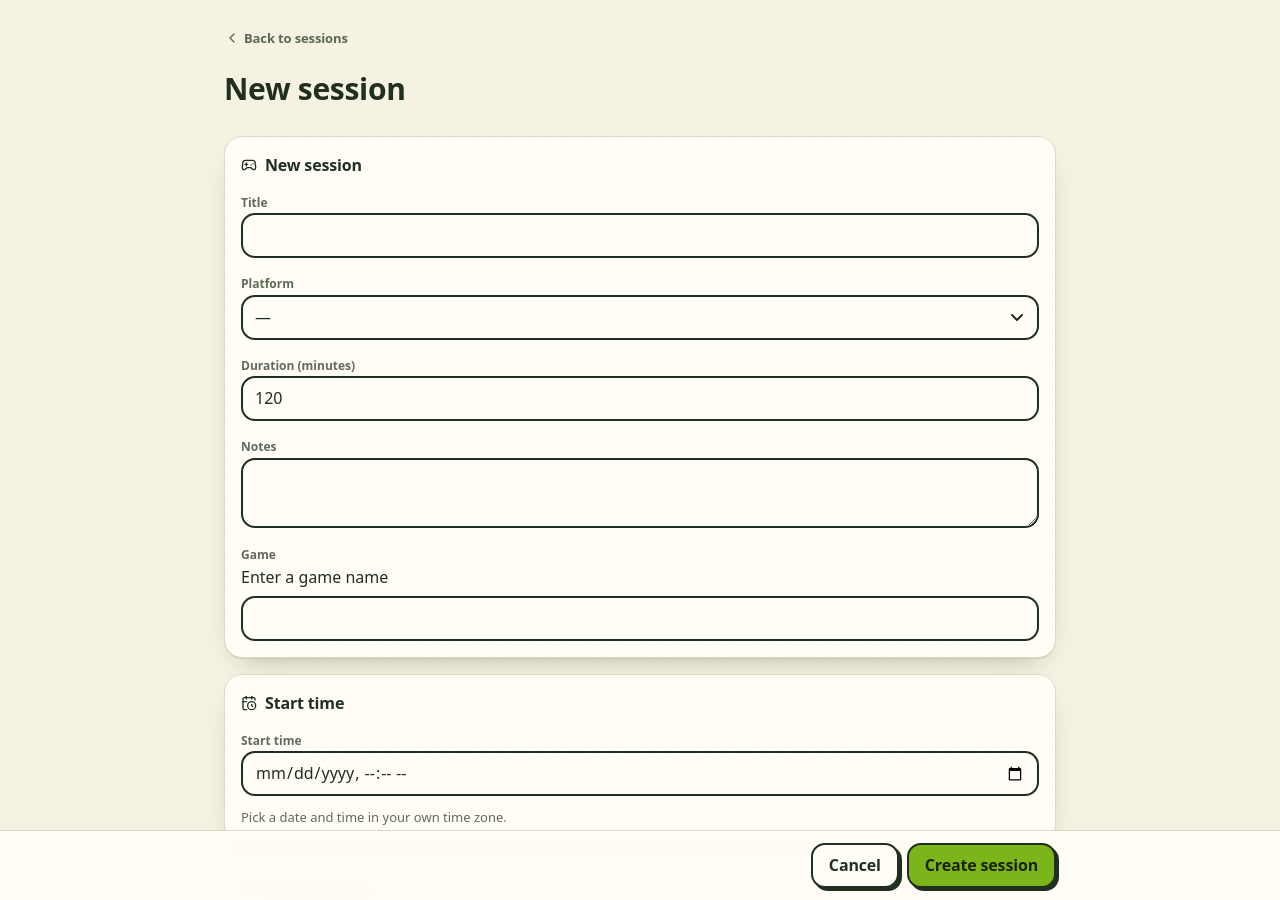
Test case: SessionCreatePage (lovable) › rejects a duration outside the 15-minute increment and blocks submission_D129
The image size is (1280, 900).
Type "Raid night" into the field labelled "Title" at (640, 236), box [241,213,1039,258]
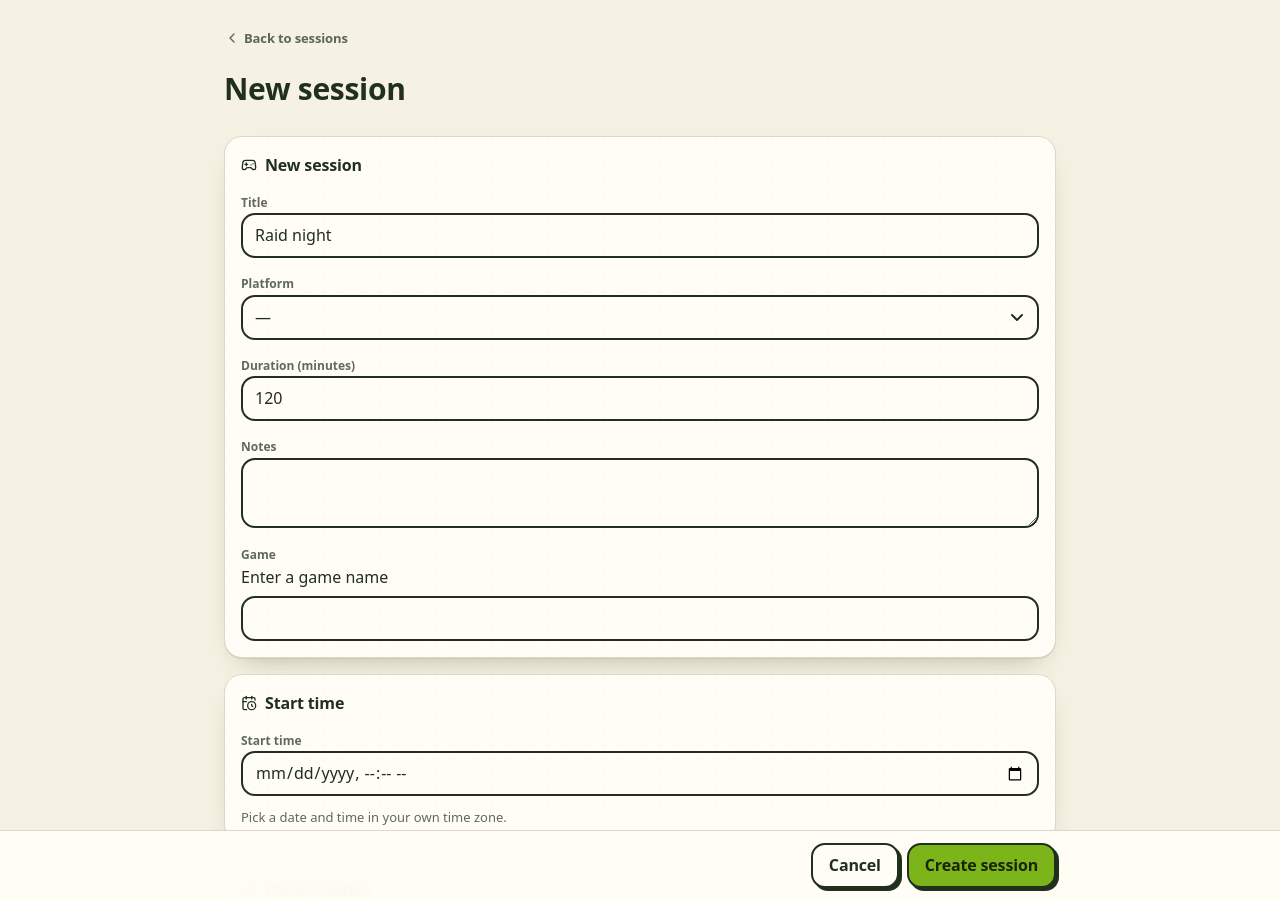
Type "2026-09-01T18:00" into the field labelled "Start time" at (640, 774), box [241,752,1039,796]
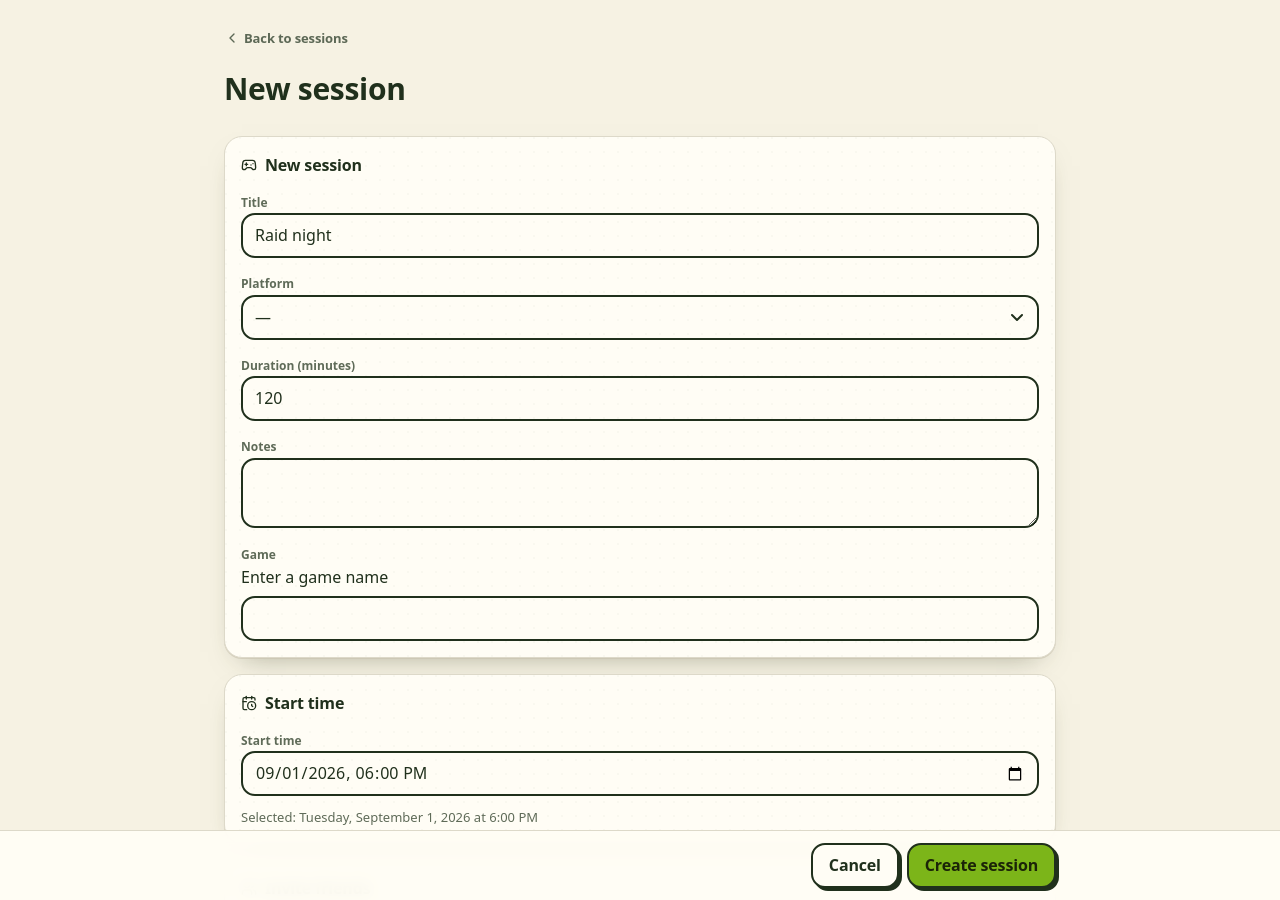
Replace the text in the number field labelled "Duration (minutes)" with "10" at (640, 399), box [241,376,1039,421]
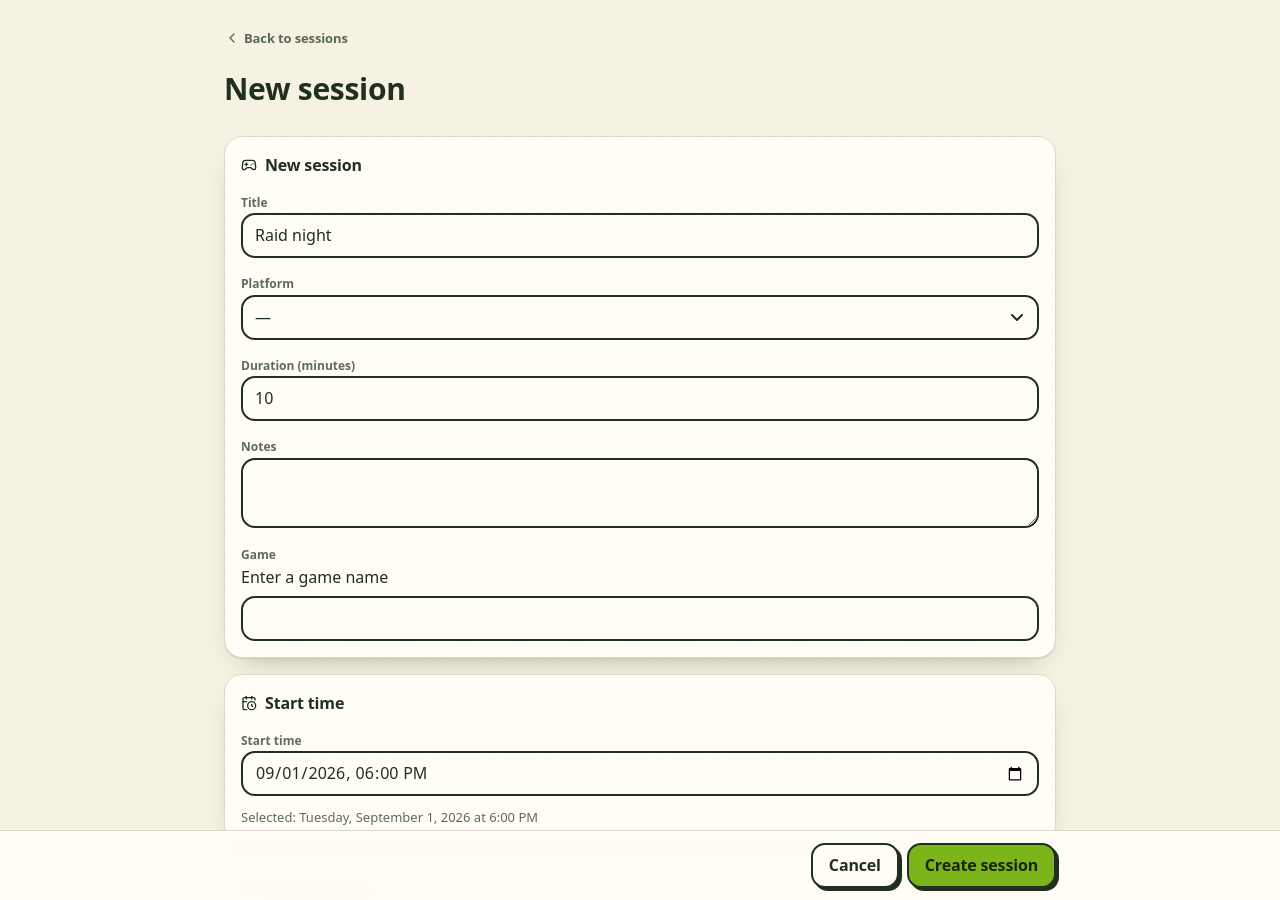
Click the button "Create session" at (981, 866), box [907,843,1056,888]
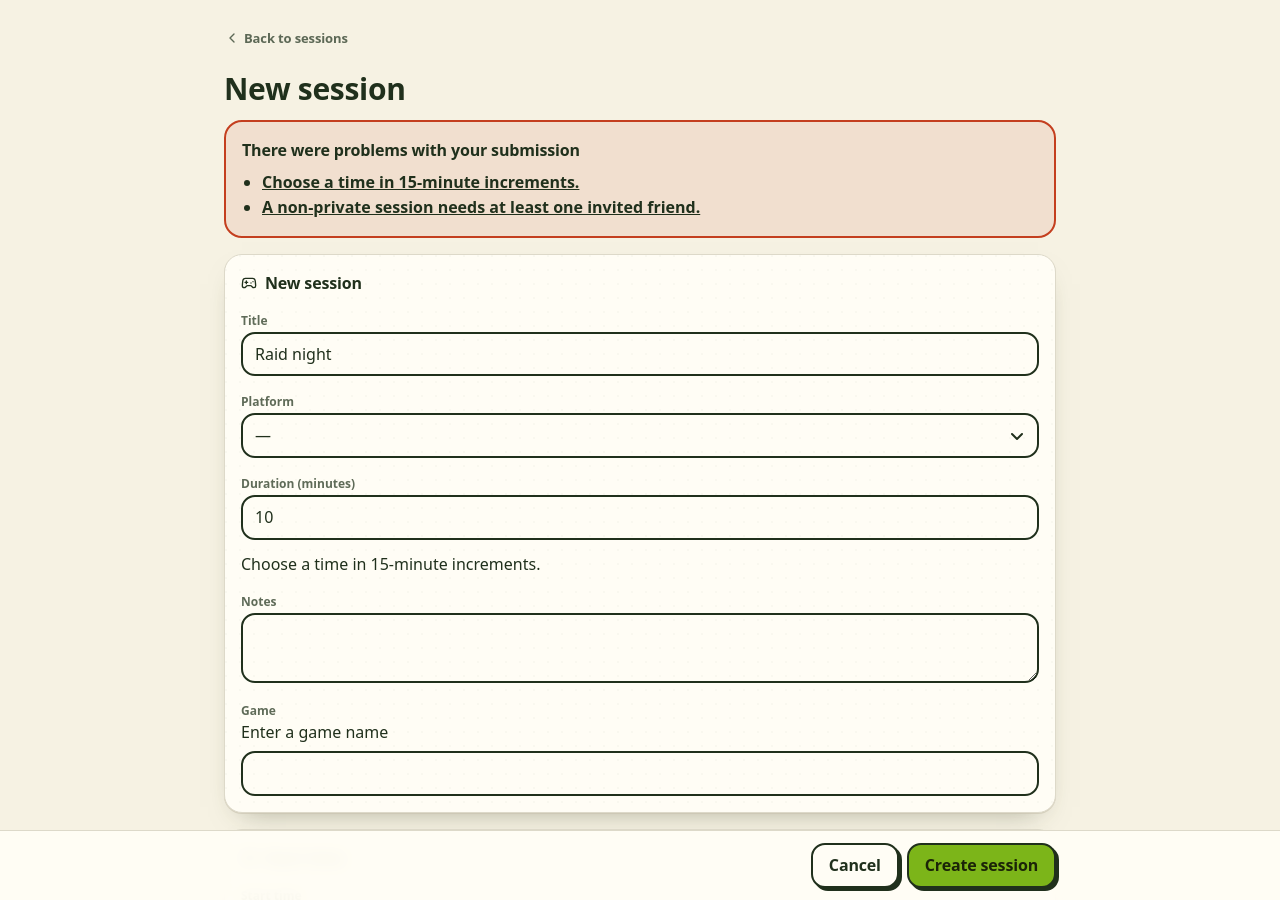
Now the text "There were problems with your submission" is shown, box [242,138,580,160]
